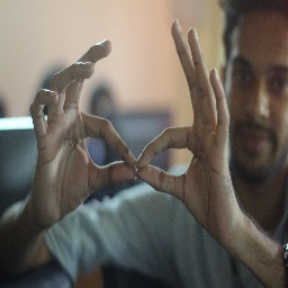B: (64, 90, 208, 211)
